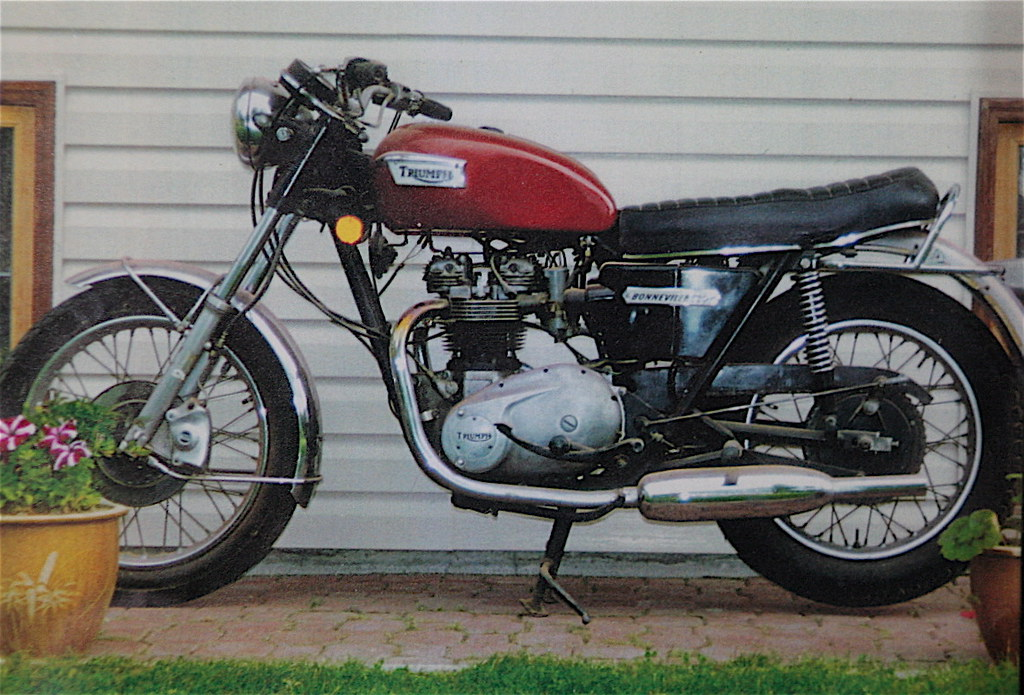motor bike: (8, 38, 1018, 605)
potted plant: (1, 427, 144, 650)
